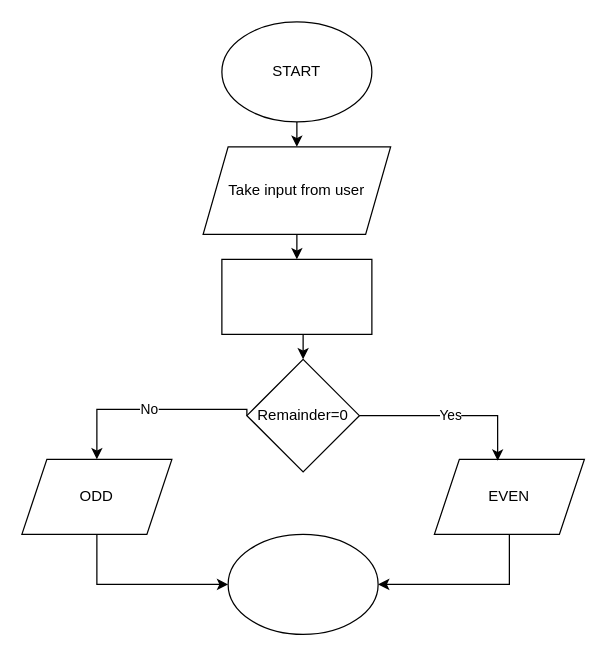
Some shapes in this 606 by 656 pixel diagram are drawn without their labels. Each missing label, with the box of its shape:
Remainder=number/2: (221, 258, 372, 334)
STOP: (227, 533, 378, 634)
